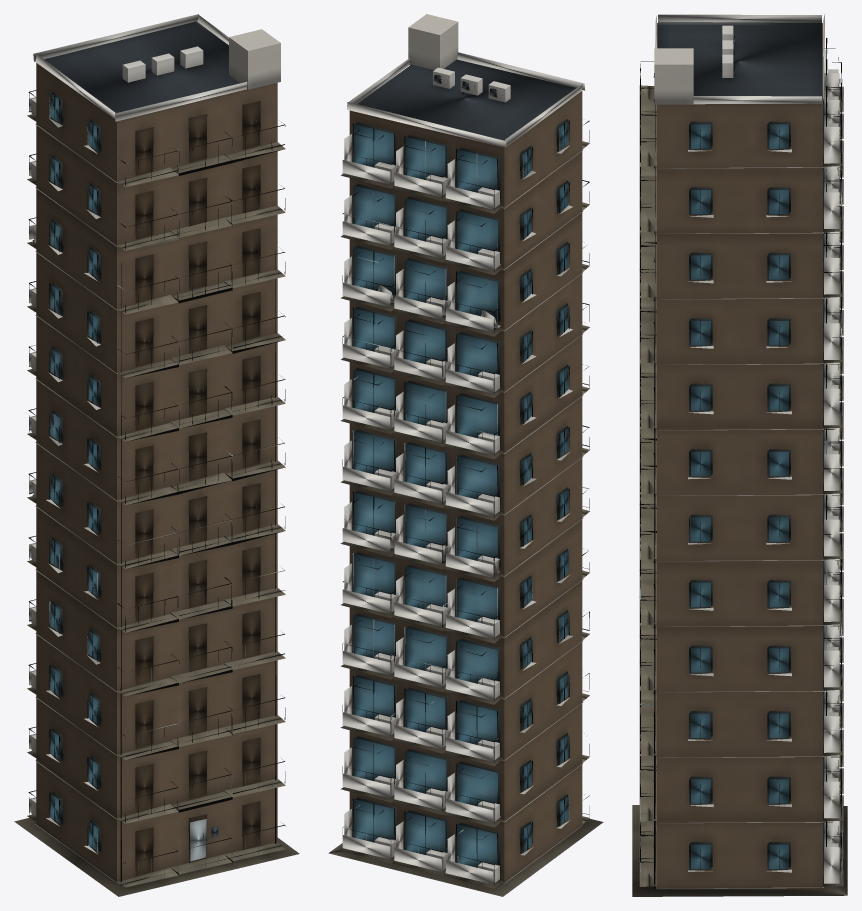
Rendered from residential_018.lod1.obj.
3 renders of one model, left to right at view 1: azimuth 30°, elevation 25°; view 2: azimuth 150°, elevation 25°; view 3: azimuth 270°, elevation 25°, orthographic. The views are drawn at different scales.
Parts seen in each view (by area): view 1: residential_018; view 2: residential_018; view 3: residential_018.
Boxes of the visible parts, bbox=[...] form: residential_018: bbox=[14, 14, 299, 896]; residential_018: bbox=[328, 14, 603, 896]; residential_018: bbox=[632, 14, 847, 896].
Size of the model in its own units: 8.8 by 37.36 by 8.8.
Materials: 1 (1 with a texture image).
